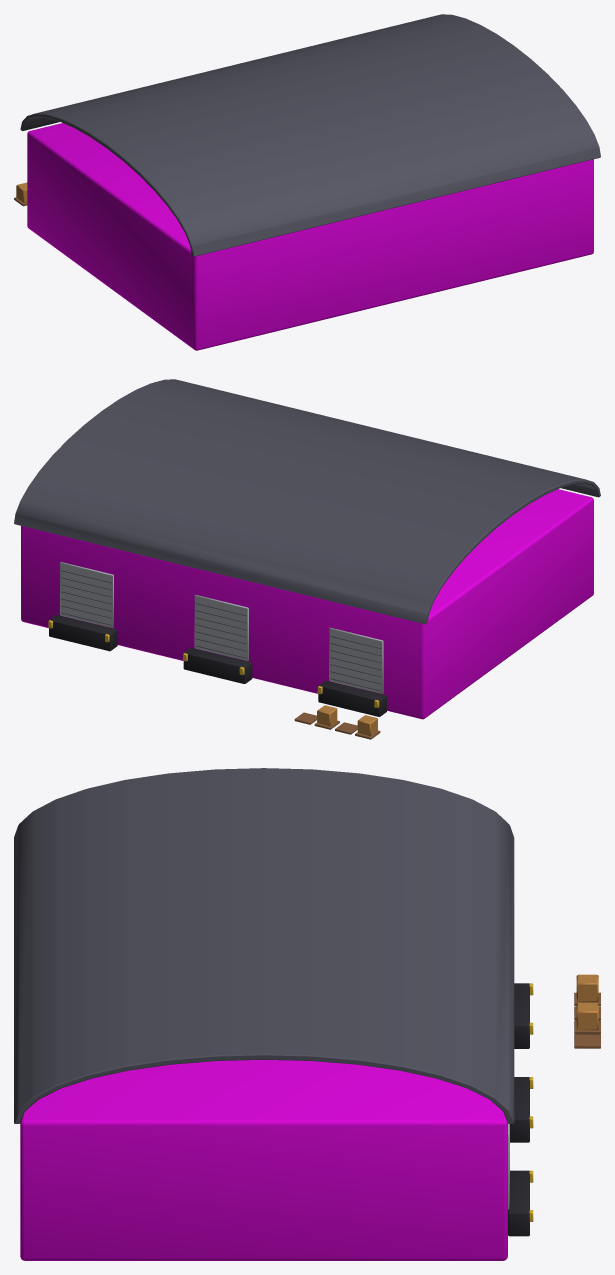
File: Poi_Warehouse.fbx
The picture shows the model from 3 angles, top to bottom: view 1: azimuth 30°, elevation 25°; view 2: azimuth 150°, elevation 25°; view 3: azimuth 270°, elevation 25°; orthographic projection. The views are drawn at different scales.
Visible parts, largest first — view 1: Poi_Warehouse; view 2: Poi_Warehouse; view 3: Poi_Warehouse.
Boxes of the visible parts, x1,y1,x2,y2 form: Poi_Warehouse: (14,14,600,350); Poi_Warehouse: (14,379,600,739); Poi_Warehouse: (14,768,600,1260).
Size of the model in its own units: 30.6 by 10.5 by 26.48.
